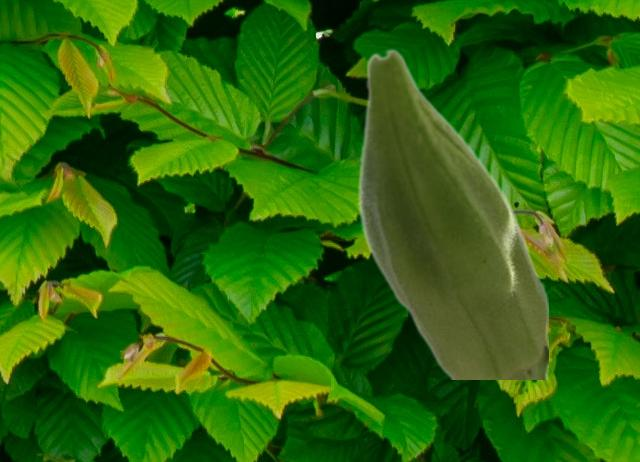okra: (357, 48, 547, 378)
